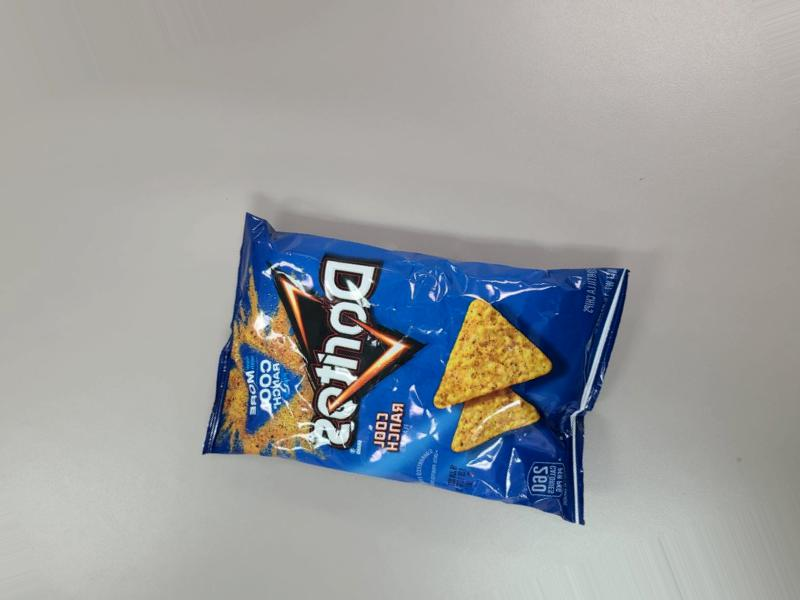doritos: (171, 208, 633, 531)
